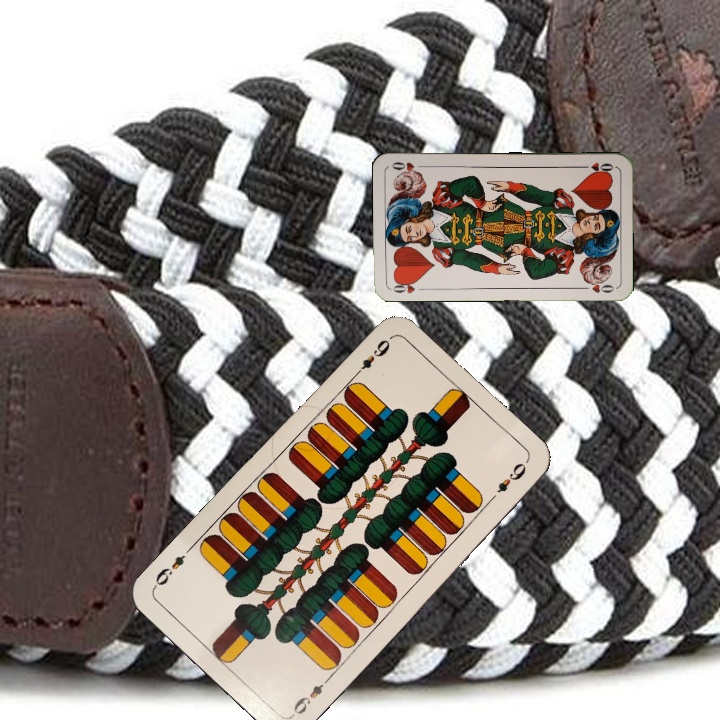E9: (287, 673, 333, 719), (350, 333, 395, 380)
HO: (576, 158, 616, 175), (388, 277, 420, 296)
